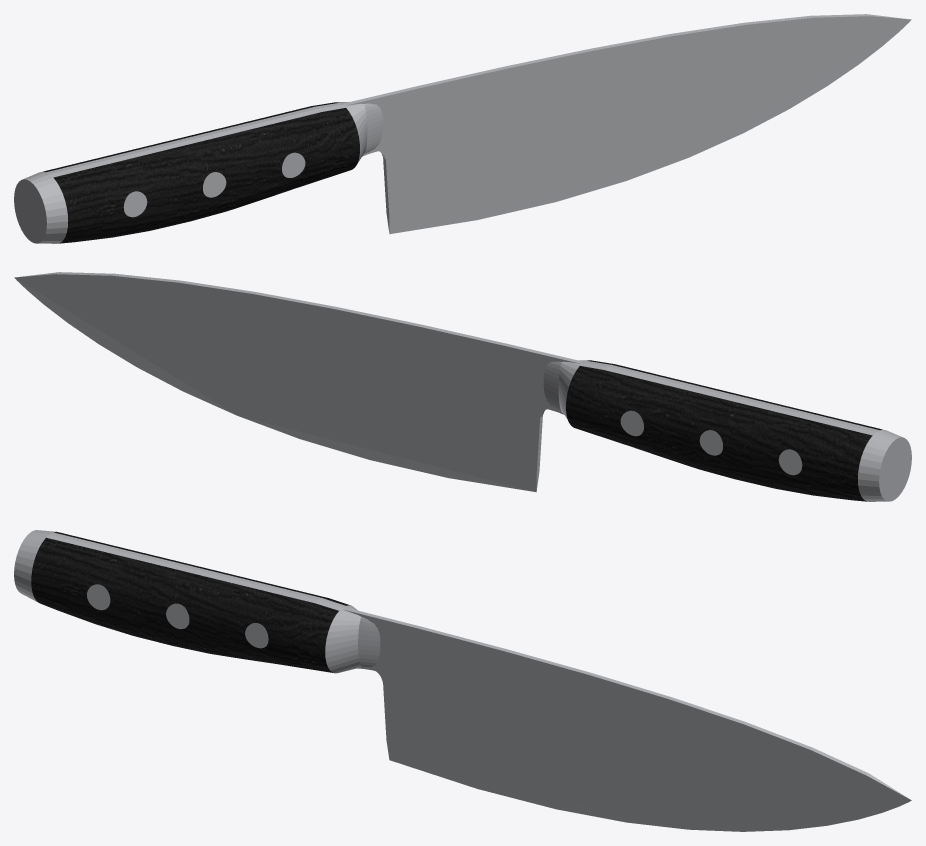
The model's file is chefsmes.glb.
The picture shows the model from 3 angles, top to bottom: view 1: azimuth 30°, elevation 25°; view 2: azimuth 150°, elevation 25°; view 3: azimuth 330°, elevation 25°; orthographic projection.
Parts seen in each view (by area): view 1: blade; view 2: blade; view 3: blade.
Part boxes in pixels (<box>): blade: <box>14,14,911,243</box>; blade: <box>14,272,911,501</box>; blade: <box>14,530,911,831</box>.
Size of the model in its own units: 5.45 by 0.8942 by 0.3956.
2 materials, 1 textured.
